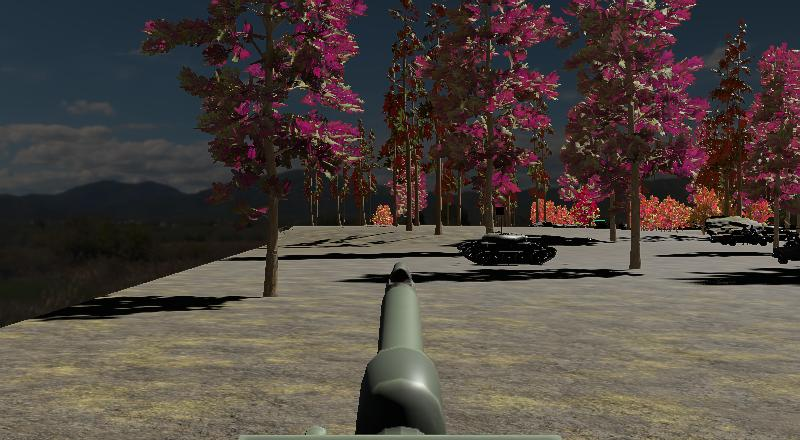Tank: (453, 230, 560, 267)
car: (772, 229, 800, 268)
